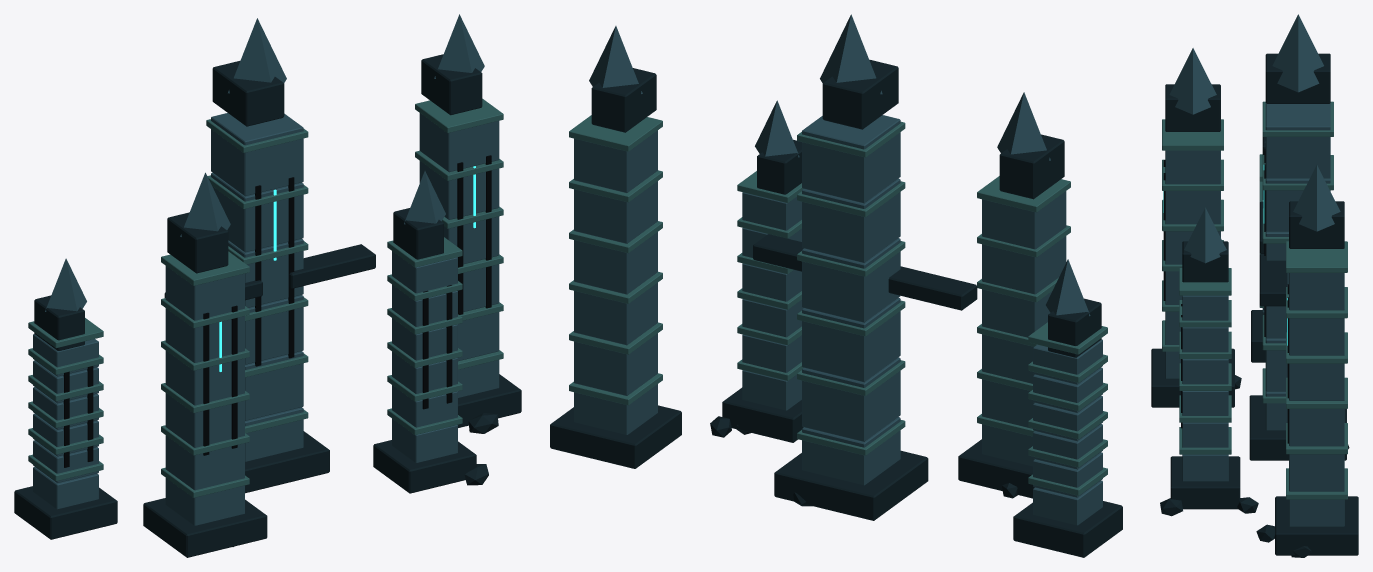
Rendered from distant_tower_cluster.glb.
The picture shows the model from 3 angles, left to right: view 1: azimuth 30°, elevation 25°; view 2: azimuth 150°, elevation 25°; view 3: azimuth 270°, elevation 25°; orthographic projection. The views are drawn at different scales.
Visible parts, largest first — view 1: distant_tower_cluster; view 2: distant_tower_cluster; view 3: distant_tower_cluster.
Boxes of the visible parts, x1,y1,x2,y2 form: distant_tower_cluster: (14,14,521,557); distant_tower_cluster: (550,14,1122,557); distant_tower_cluster: (1151,14,1358,557).
Size of the model in its own units: 173 by 154 by 67.
5 materials, 5 textured.
